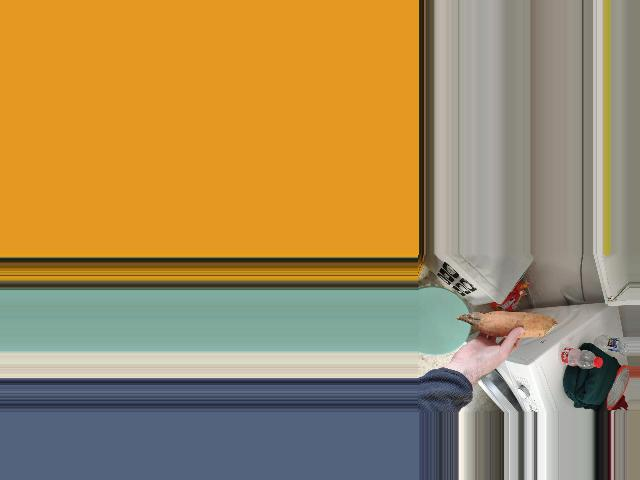sweet_potato: (459, 311, 544, 345)
